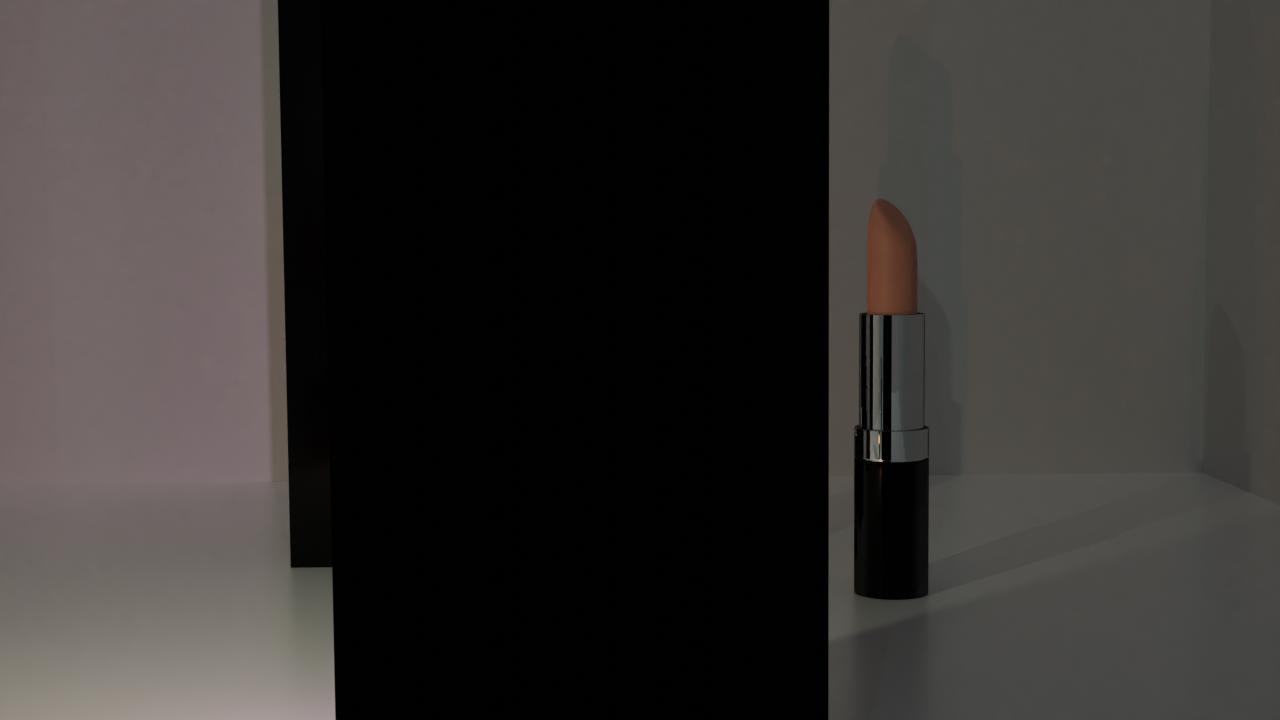CLASSIFIER_NAME: (852, 193, 931, 599)
